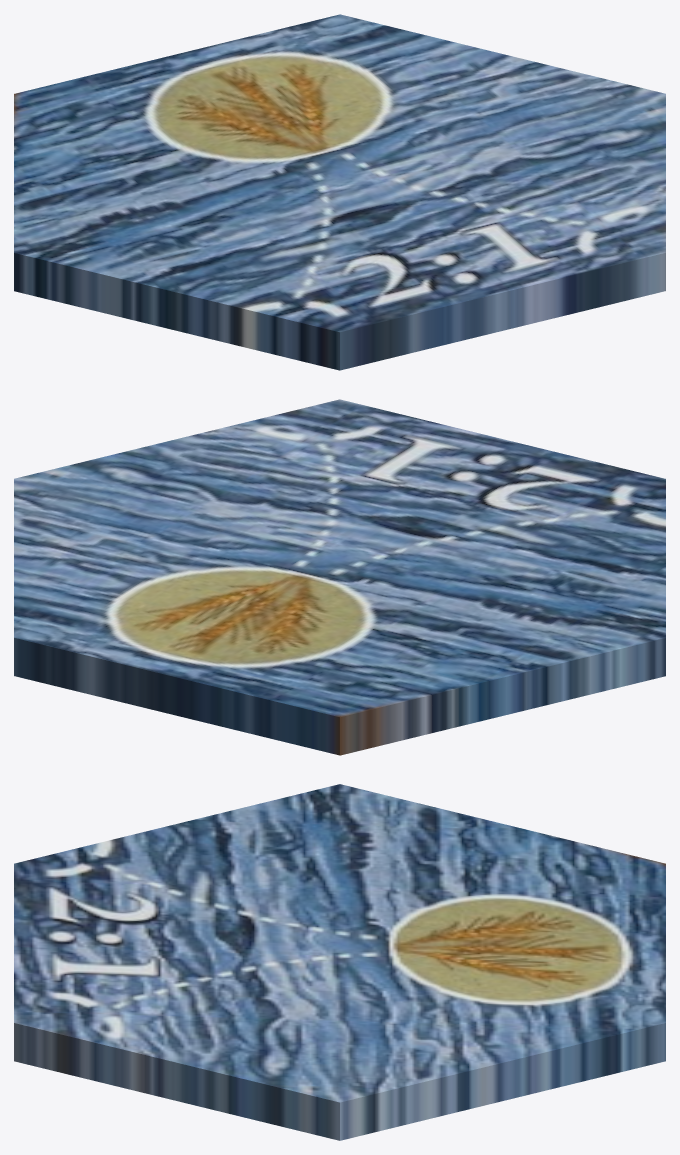
File: 2for1_wheat.glb
3 renders of one model, top to bottom at view 1: azimuth 30°, elevation 25°; view 2: azimuth 150°, elevation 25°; view 3: azimuth 270°, elevation 25°, orthographic.
Visible parts, largest first — view 1: 2for1_wheat; view 2: 2for1_wheat; view 3: 2for1_wheat.
Boxes of the visible parts, x1,y1,x2,y2 form: 2for1_wheat: [14, 14, 665, 370]; 2for1_wheat: [14, 399, 665, 755]; 2for1_wheat: [14, 784, 665, 1140].
Bounding box in the file's own units: 0.089 × 0.005 × 0.077.
Materials: 1 (1 with a texture image).
